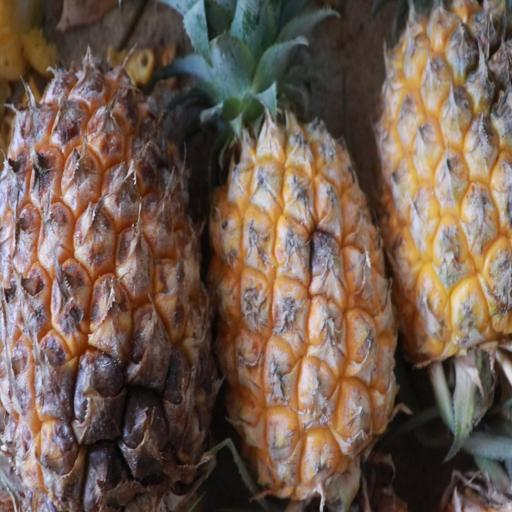Pineapple - v8 v1: (0, 37, 219, 512), (201, 50, 401, 512), (371, 3, 512, 364)
